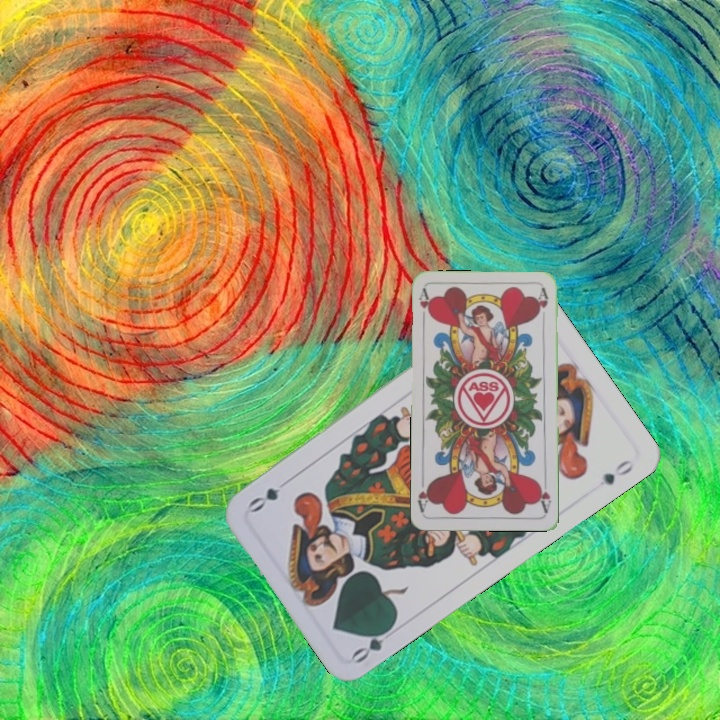GO: (348, 620, 401, 666)
HA: (534, 474, 554, 515), (415, 285, 434, 326)
